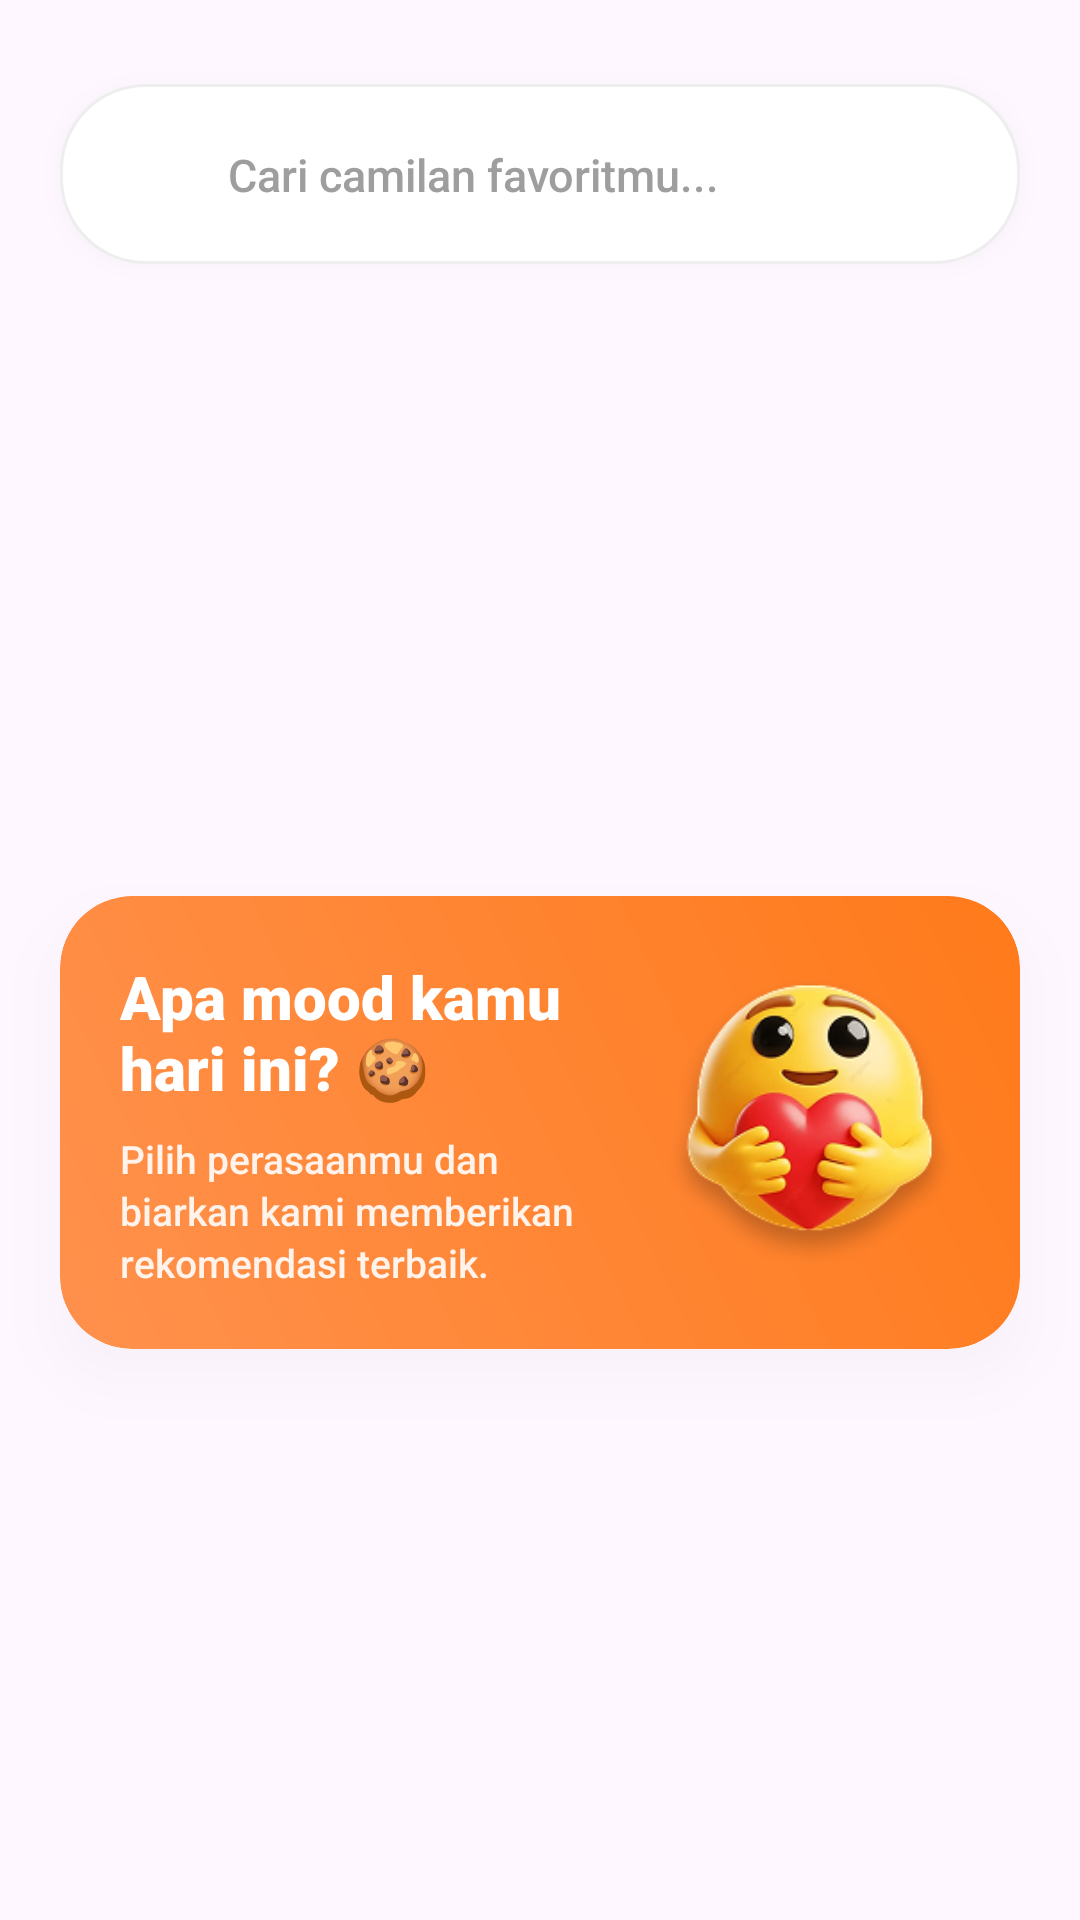

Icons on this 1080*1920 Android screen, each with the point to tap as (x=x, y=y):
emot home: (x=809, y=1116)
